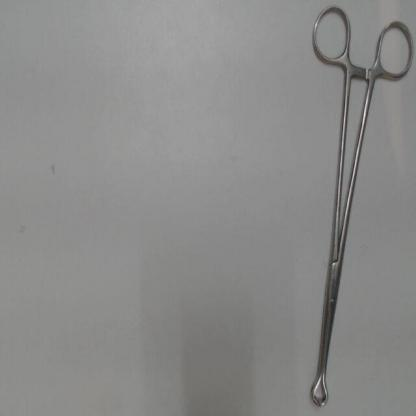8 Babcock Tissue Forceps: (305, 1, 415, 412)
